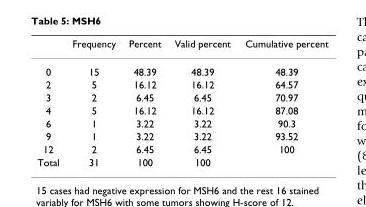table: (36, 37, 327, 167)
table column: (237, 37, 327, 167), (167, 37, 237, 167), (65, 37, 121, 167), (121, 37, 167, 167), (36, 37, 65, 167)
table column header: (36, 37, 327, 57)
table row: (36, 37, 327, 57), (36, 57, 327, 77), (36, 77, 327, 90), (36, 90, 327, 103), (36, 103, 327, 116), (36, 116, 327, 129), (36, 129, 327, 142), (36, 142, 327, 155), (36, 155, 327, 167)
